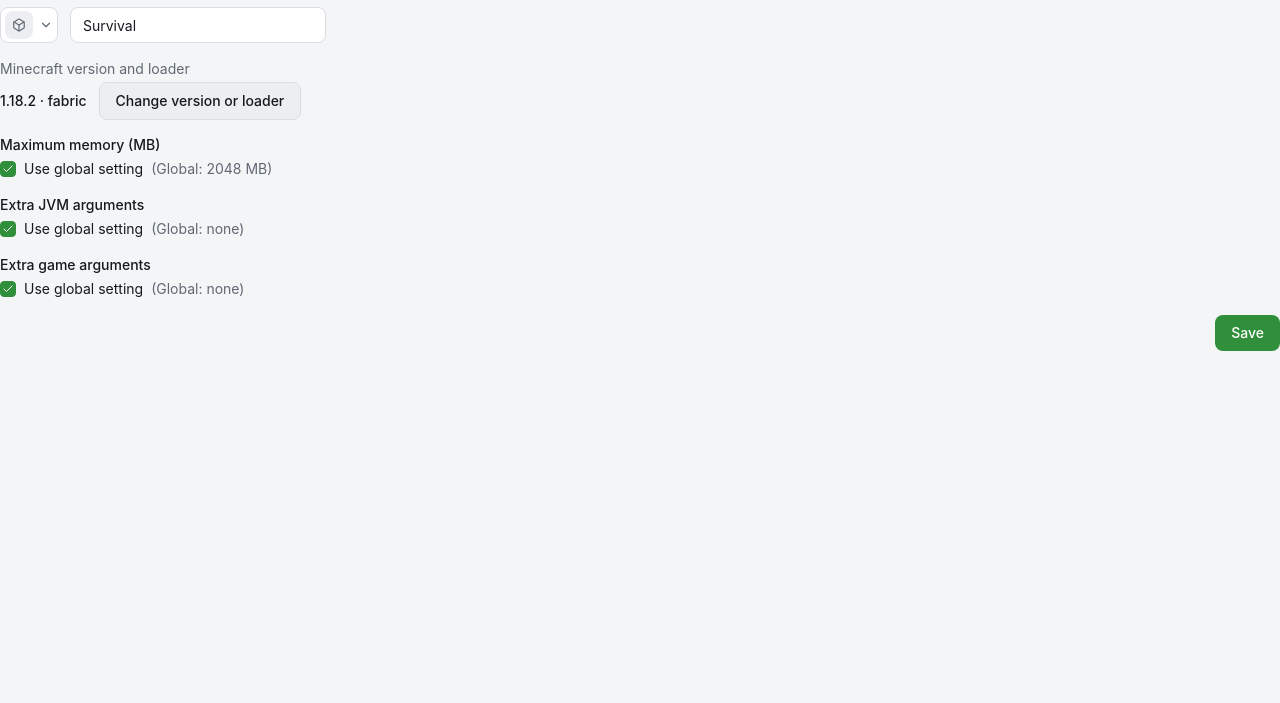
ProfileEditor › offers to update mods after a version change
The width and height of the screenshot is (1280, 703).
What coordinates should you click on to do the following:
click the button "Change version or loader"
I would click on:
 (200, 101)
Its box is [98,82,301,120].
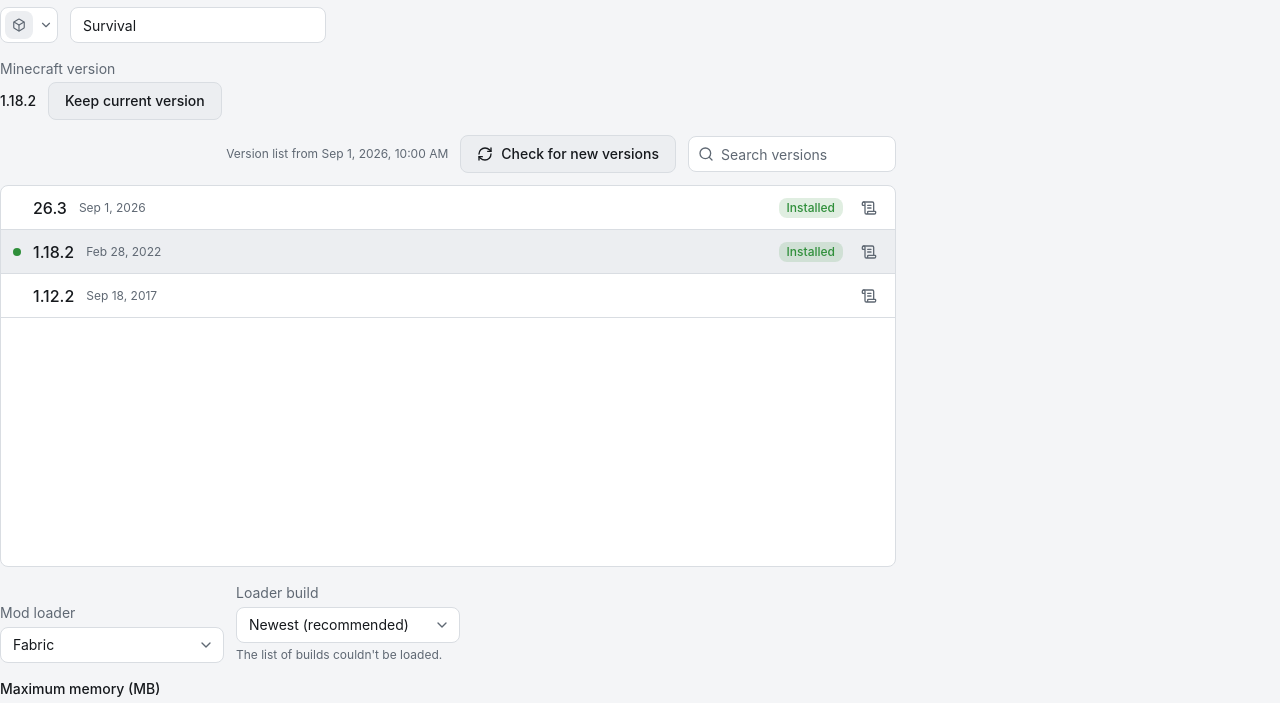
What coordinates should you click on to do the following:
click the text "26.3"
I would click on:
 (50, 208)
Its box is [33,196,67,220].
(page scrolled)
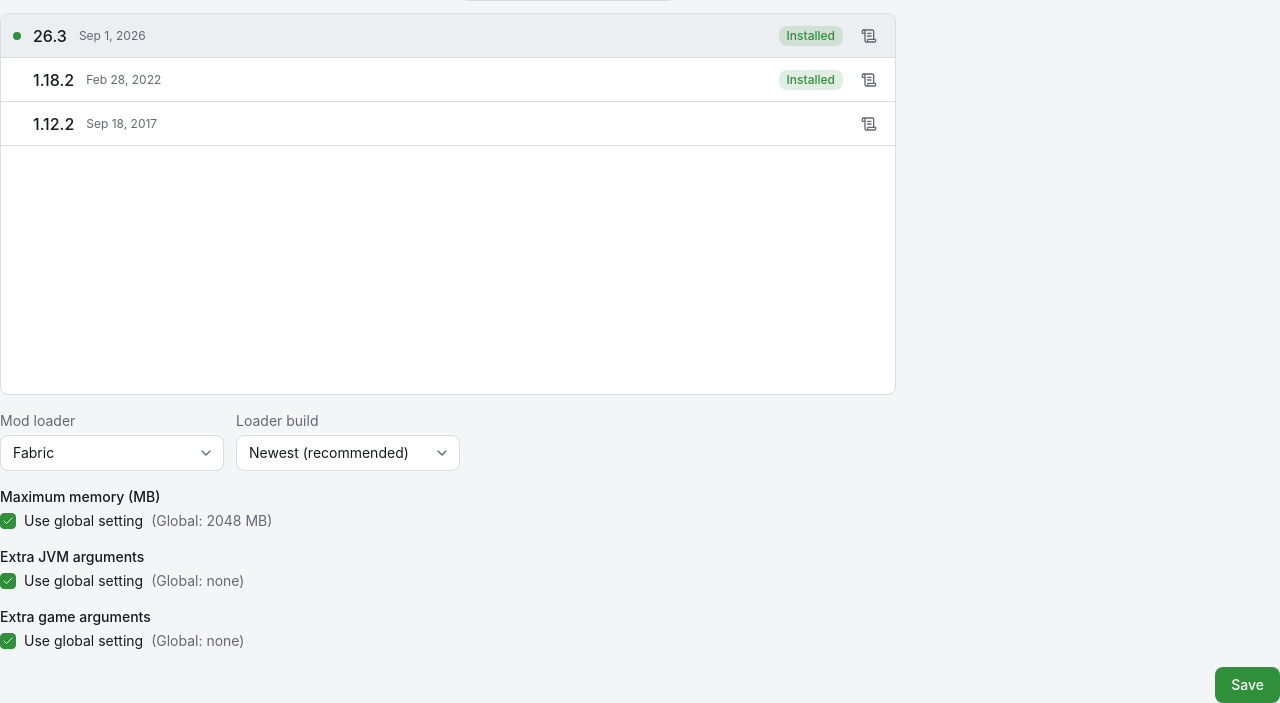
What coordinates should you click on to do the following:
click the button "Save"
I would click on:
 (1248, 685)
Its box is [1215,667,1279,702].
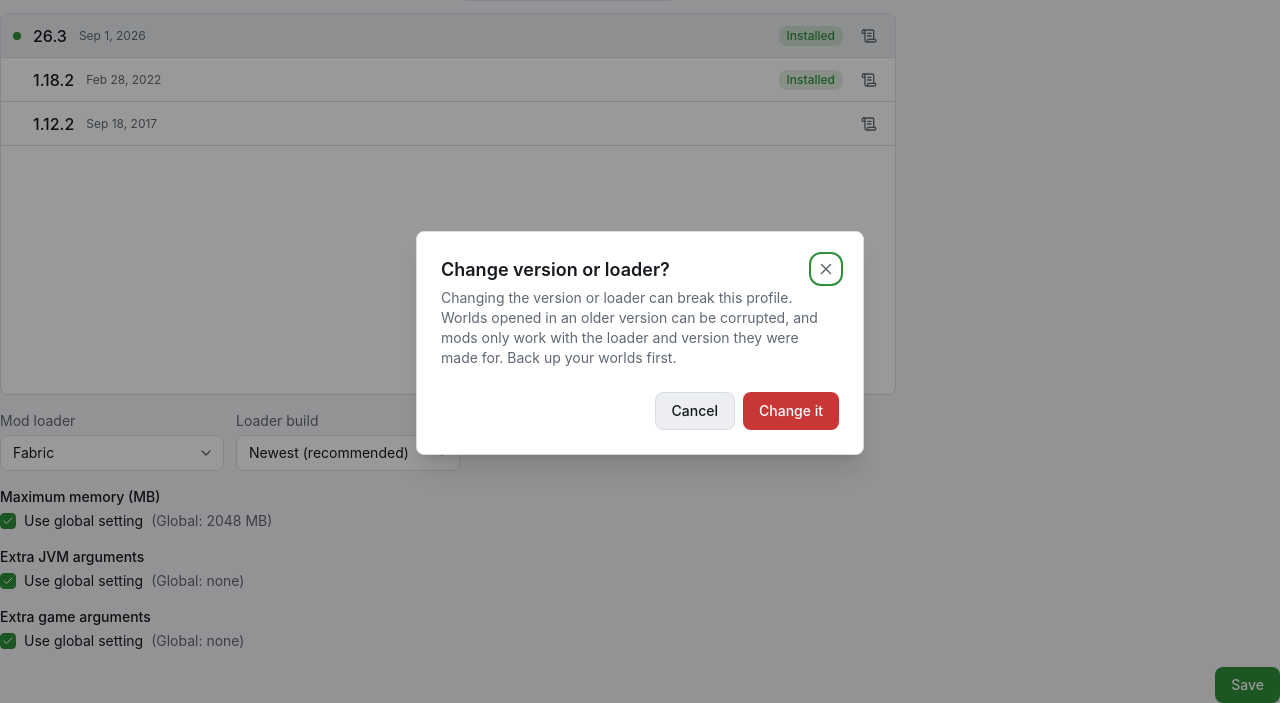
What coordinates should you click on to do the following:
click the button "Change it"
I would click on:
 (791, 411)
Its box is [743,392,839,430].
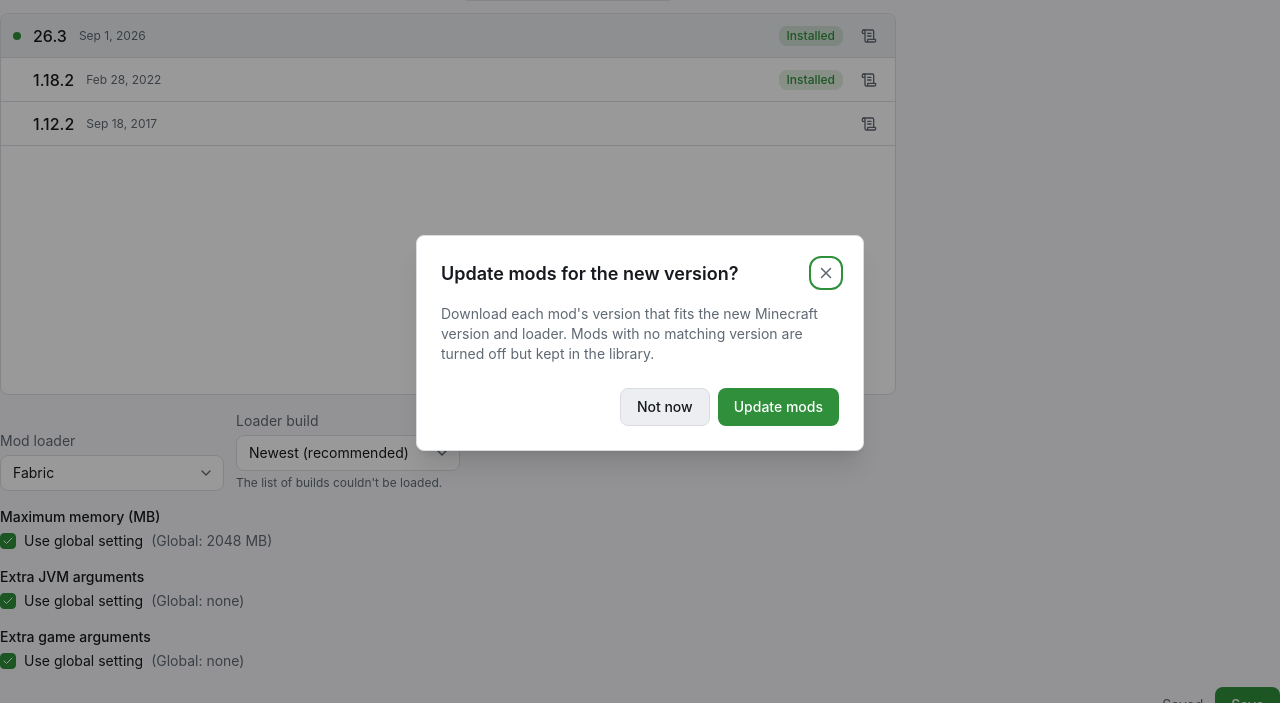
What coordinates should you click on to do the following:
click the button "Update mods"
I would click on:
 (778, 407)
Its box is [718,388,839,426].
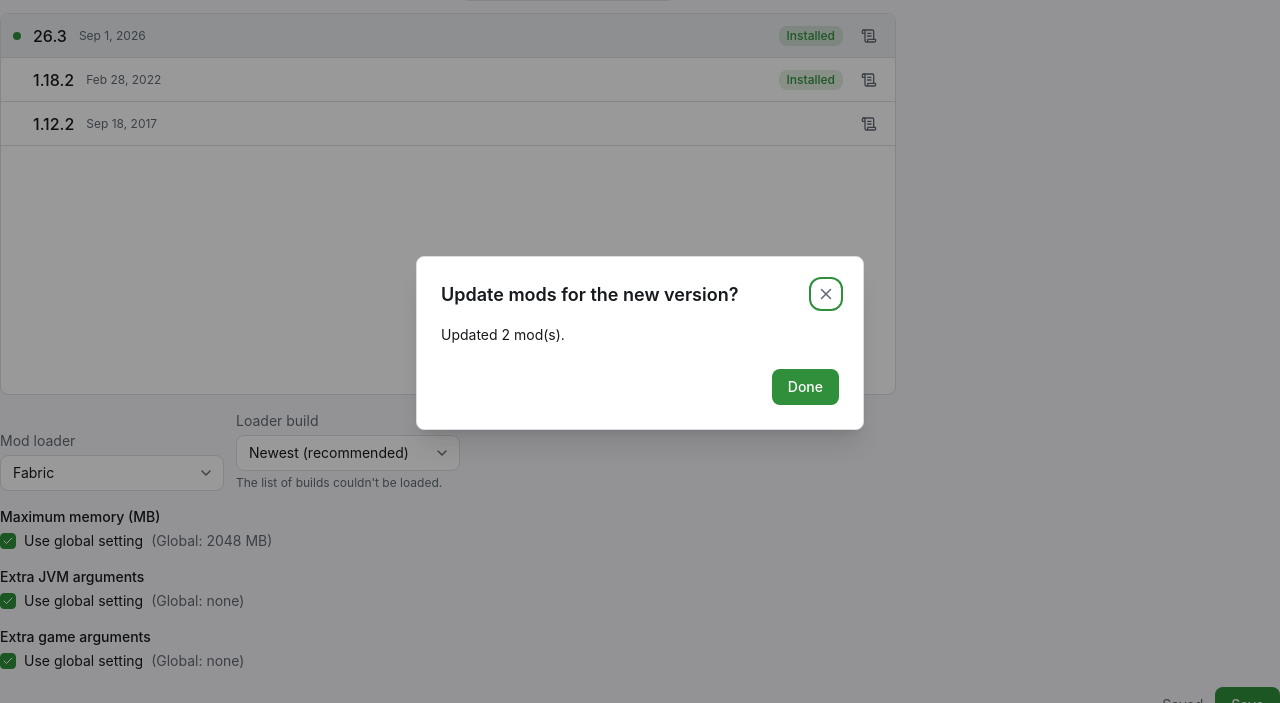
Expected: the text "Updated 2 mod(s)." is shown, [441,326,565,343]
